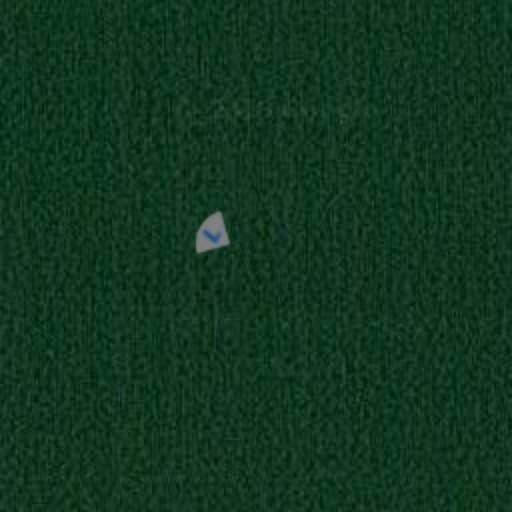quarter_circle: (180, 202, 244, 266)
